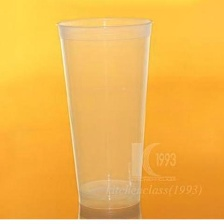glass: (53, 12, 163, 215)
